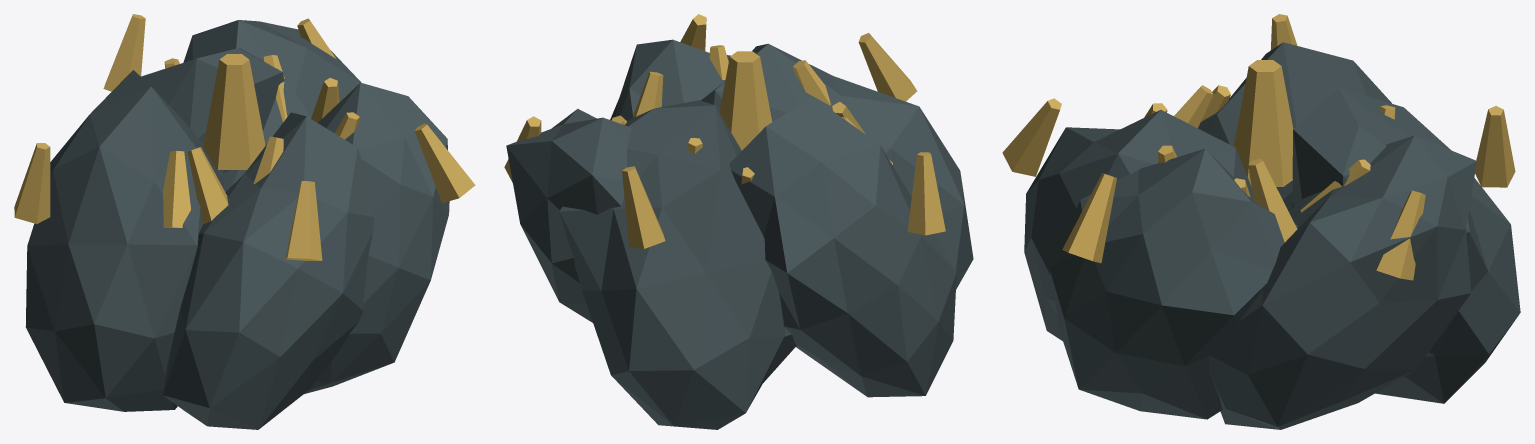
The model's file is OreDeposit.glb.
The picture shows the model from 3 angles, left to right: view 1: azimuth 30°, elevation 25°; view 2: azimuth 150°, elevation 25°; view 3: azimuth 270°, elevation 25°; orthographic projection. The views are drawn at different scales.
Parts seen in each view (by area): view 1: FracturedOre.002, FracturedOre.004, FracturedOre.001, FracturedOre.003, GoldCrown, FracturedOre, GoldVein.006, GoldVein.003, GoldVein.012, GoldVein.013, GoldVein.008, GoldVein (+4 smaller); view 2: FracturedOre, FracturedOre.002, FracturedOre.003, FracturedOre.004, FracturedOre.001, GoldCrown, GoldVein.006, GoldVein, GoldVein.012, GoldVein.005, GoldVein.004, GoldVein.003 (+2 smaller); view 3: FracturedOre.003, FracturedOre.001, FracturedOre, FracturedOre.004, FracturedOre.002, GoldCrown, GoldVein.003, GoldVein, GoldVein.012, GoldVein.009, GoldVein.005, GoldVein.008 (+3 smaller).
Boxes of the visible parts, box(x1,y1,x2,y2) form: FracturedOre.002: box(25, 70, 224, 411); FracturedOre.004: box(163, 112, 373, 429); FracturedOre.001: box(304, 82, 449, 393); FracturedOre.003: box(183, 20, 361, 184); GoldCrown: box(203, 54, 265, 169); FracturedOre: box(141, 48, 284, 191); GoldVein.006: box(14, 143, 50, 223); GoldVein.003: box(415, 123, 475, 202); GoldVein.012: box(285, 181, 322, 260); GoldVein.013: box(162, 150, 190, 227); GoldVein.008: box(187, 147, 228, 224); GoldVein: box(103, 14, 145, 91); FracturedOre: box(559, 100, 796, 429); FracturedOre.002: box(729, 96, 956, 397); FracturedOre.003: box(506, 109, 631, 322); FracturedOre.004: box(701, 43, 973, 289); FracturedOre.001: box(610, 39, 730, 120); GoldCrown: box(719, 51, 772, 150); GoldVein.006: box(907, 152, 945, 235); GoldVein: box(622, 166, 665, 248); GoldVein.012: box(858, 33, 917, 101); GoldVein.005: box(633, 71, 663, 117); GoldVein.004: box(793, 60, 830, 105); GoldVein.003: box(680, 14, 706, 50); FracturedOre.003: box(1209, 135, 1476, 429); FracturedOre.001: box(1049, 148, 1297, 419); FracturedOre: box(1291, 88, 1520, 403); FracturedOre.004: box(1024, 110, 1252, 340); FracturedOre.002: box(1198, 42, 1391, 211); GoldCrown: box(1233, 60, 1293, 186); GoldVein.003: box(1062, 173, 1116, 263); GoldVein: box(1475, 106, 1515, 187); GoldVein.012: box(1002, 98, 1061, 176); GoldVein.009: box(1376, 190, 1425, 280); GoldVein.005: box(1248, 158, 1297, 242); GoldVein.008: box(1174, 85, 1213, 128).
Size of the model in its own units: 2.72 by 2.06 by 2.84.
